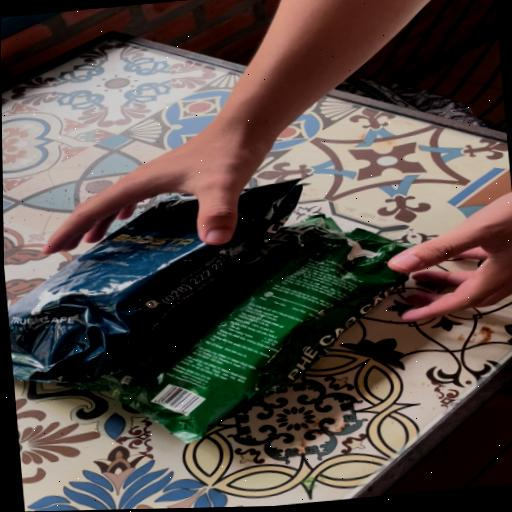cafe_hat: (8, 179, 302, 383)
cafe_xay: (125, 215, 407, 442)
